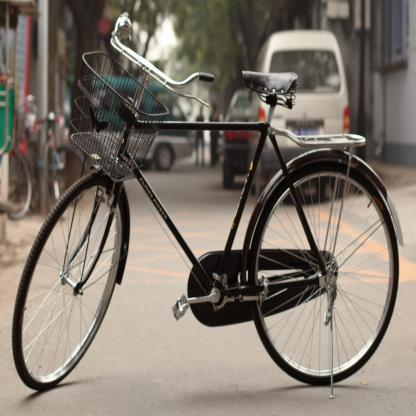Bike: (11, 13, 403, 390)
